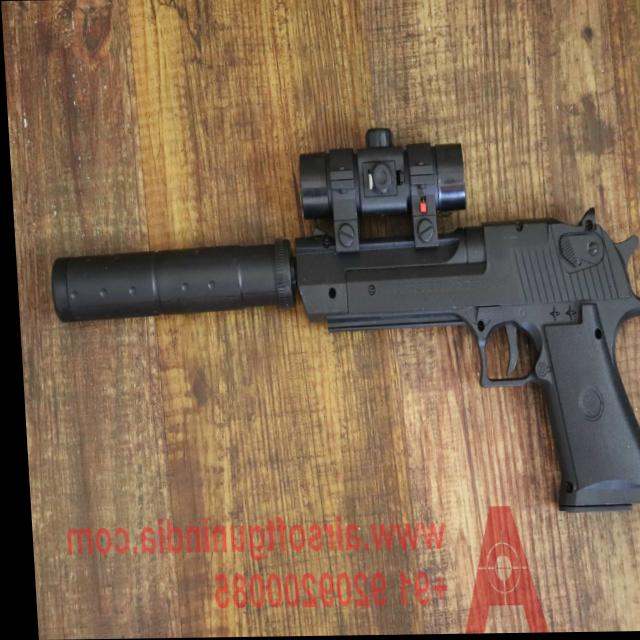handgun: (31, 124, 640, 524)
